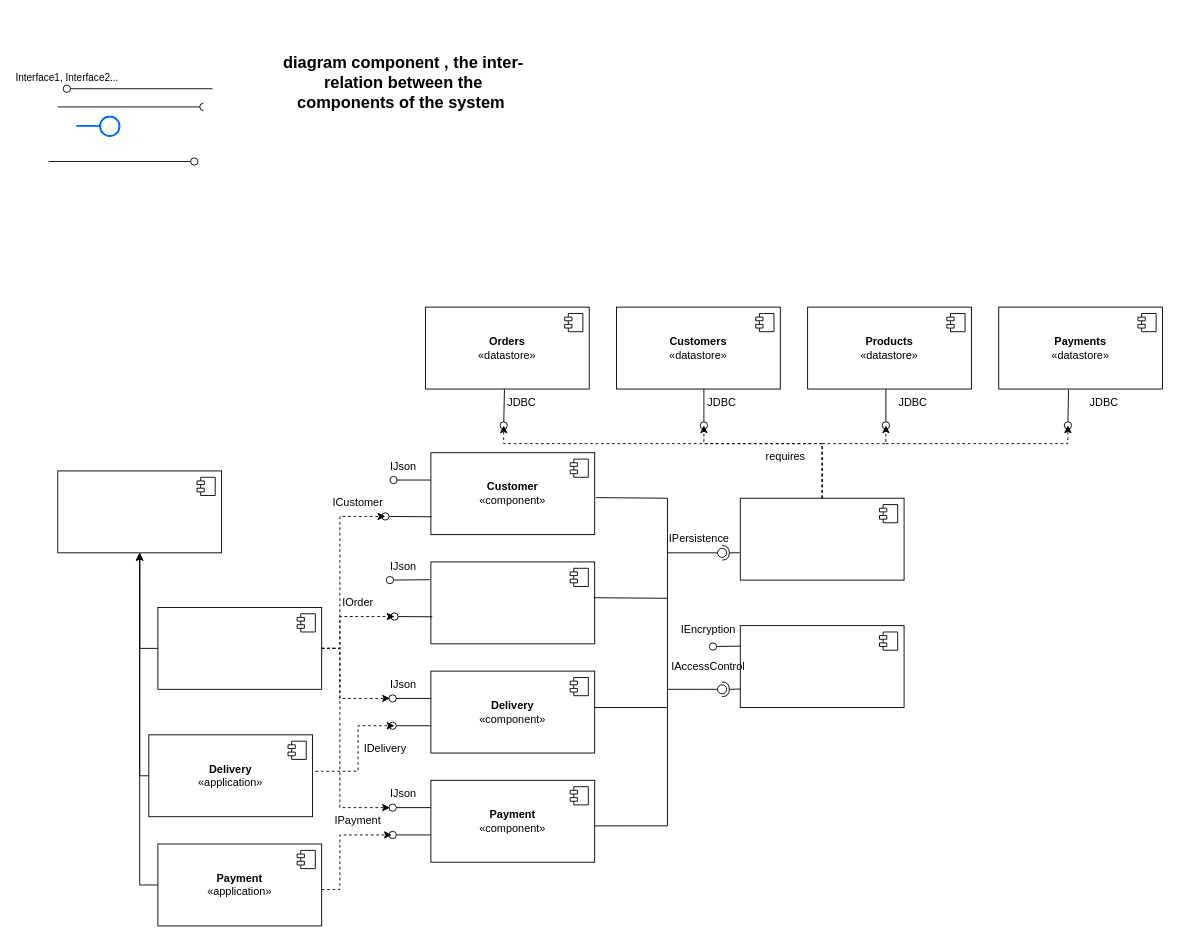
Some shapes in this 1178 by 942 pixel diagram are drawn without their labels. The centre of each missing label's shape, as x and y in pixels:
Online Order «application»: the point at 239,648
Online Product Shopping «Framework»: the point at 139,511
Order «component»: the point at 512,602
Persistetnce « infrastructure r»: the point at 821,538
Security «infrastructure»: the point at 821,666
